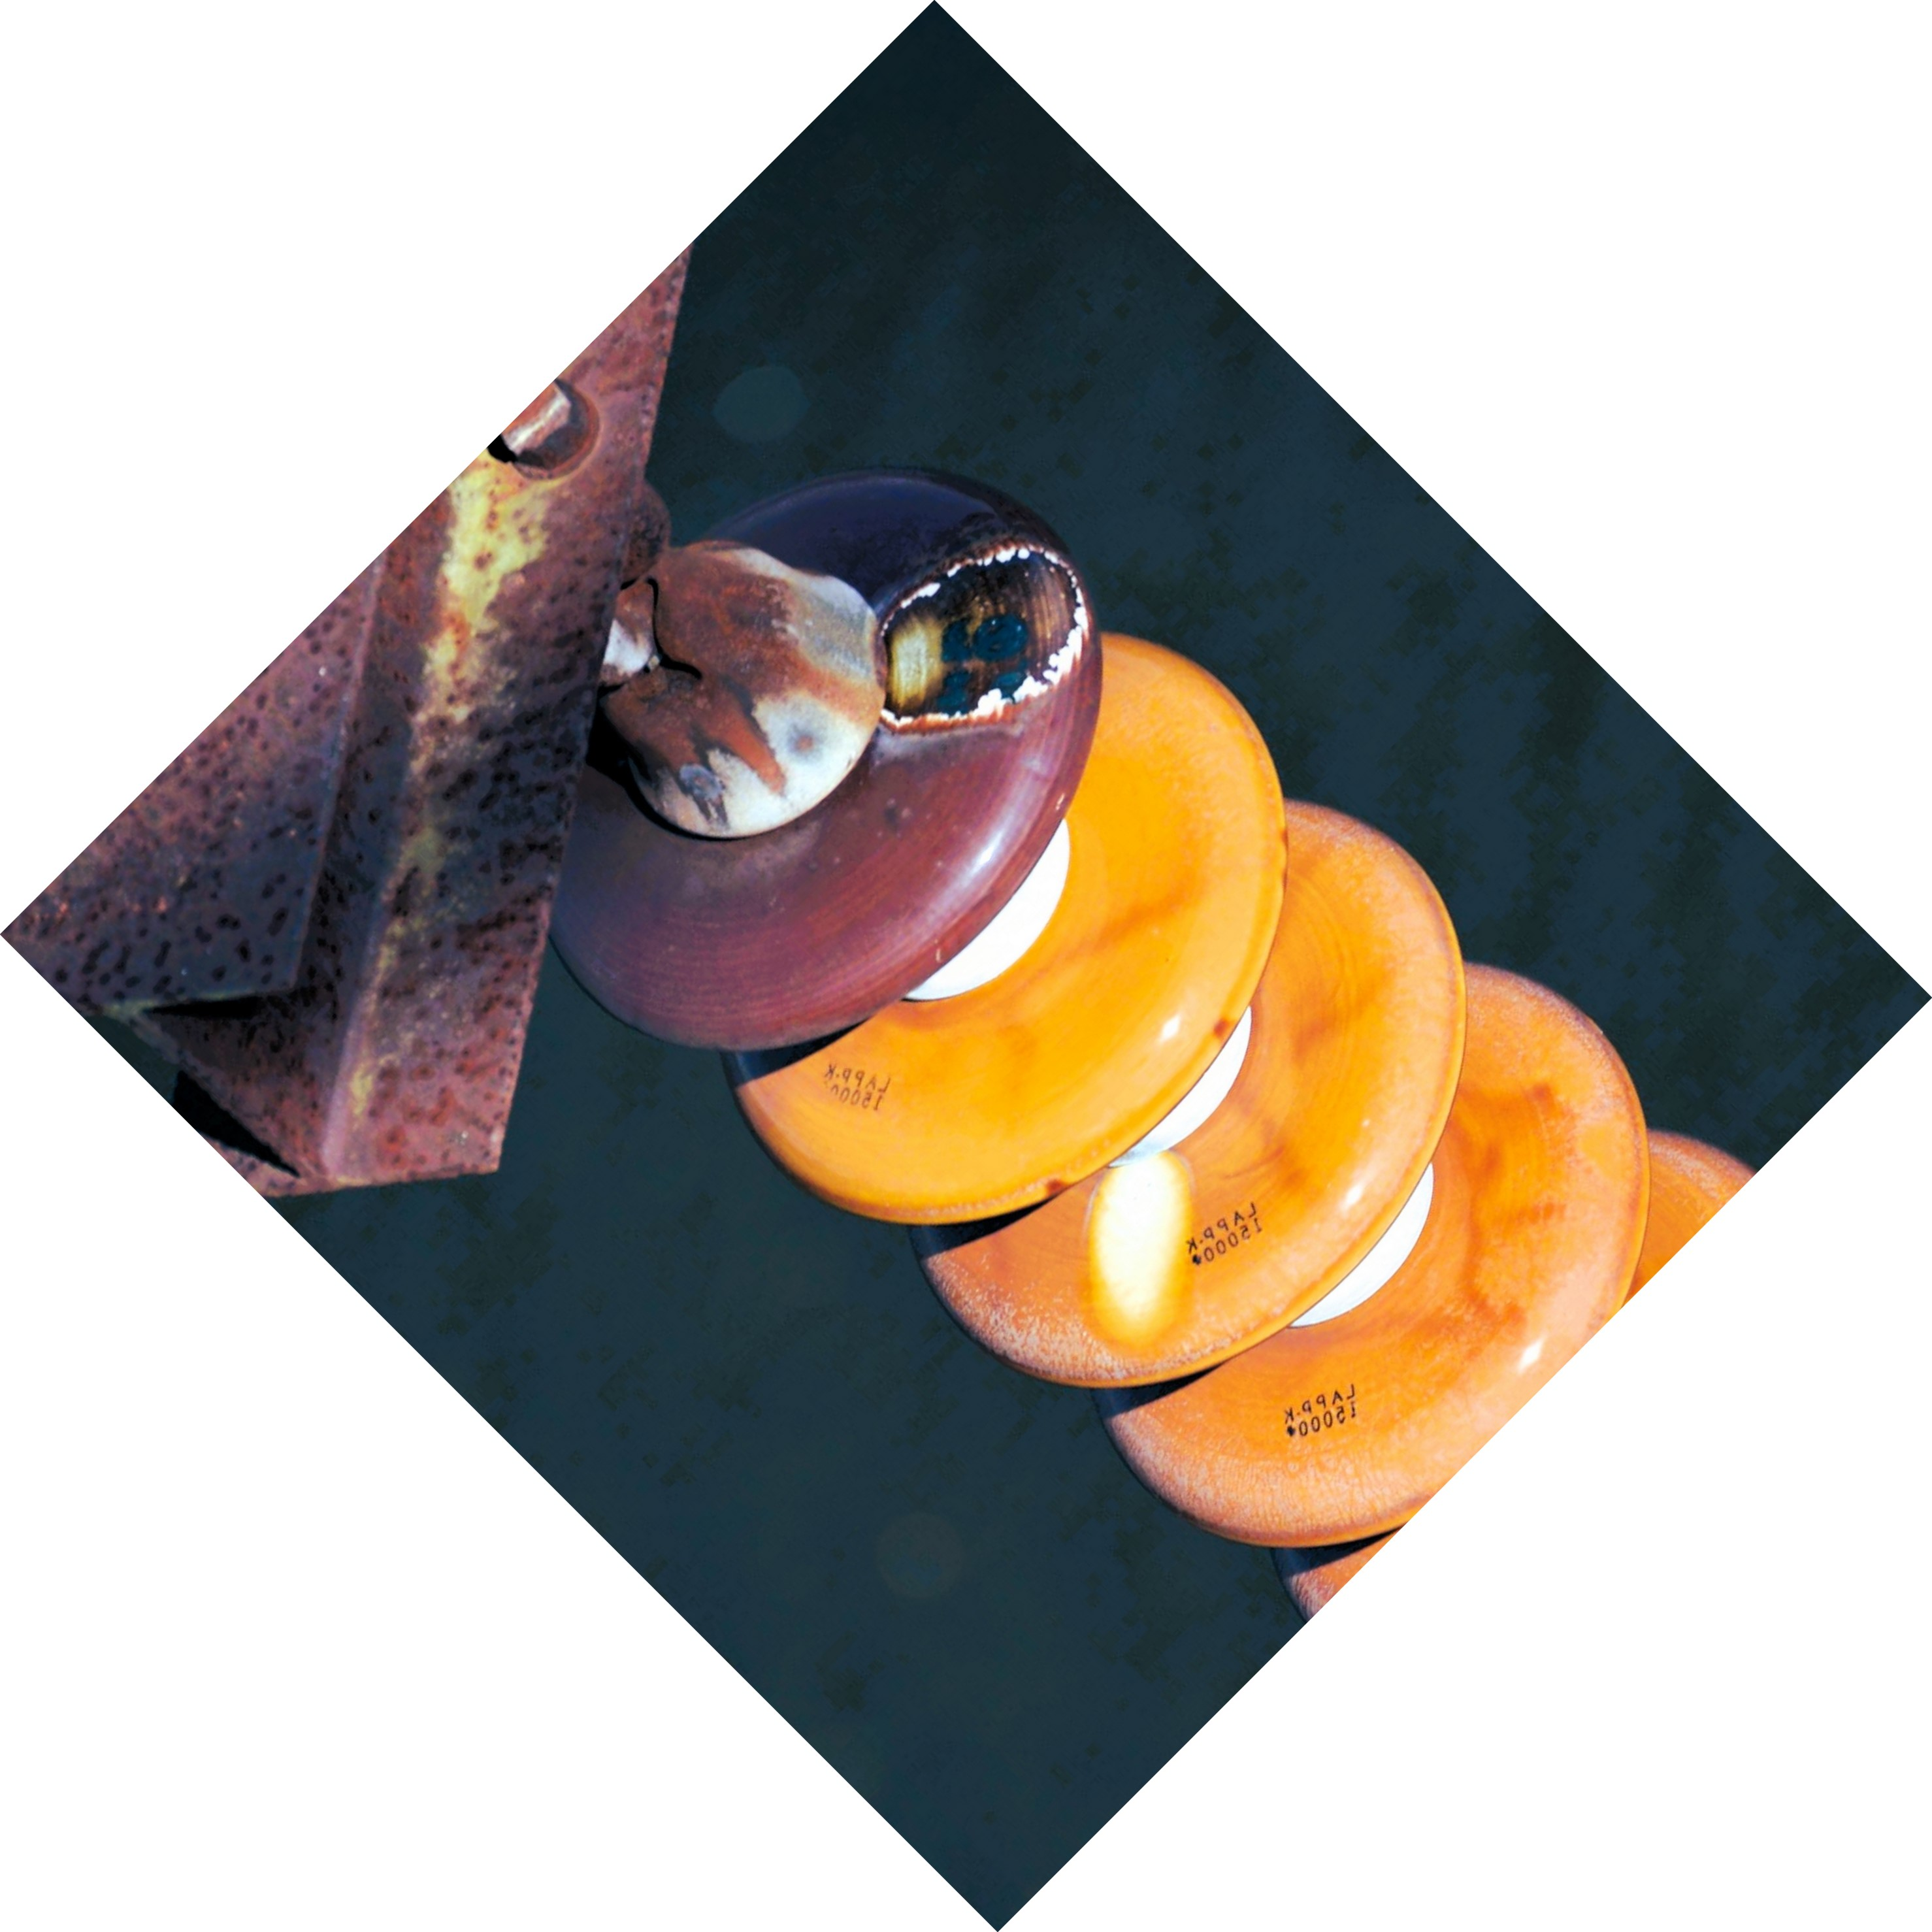Insulator flashover: (540, 419, 1113, 1076)
